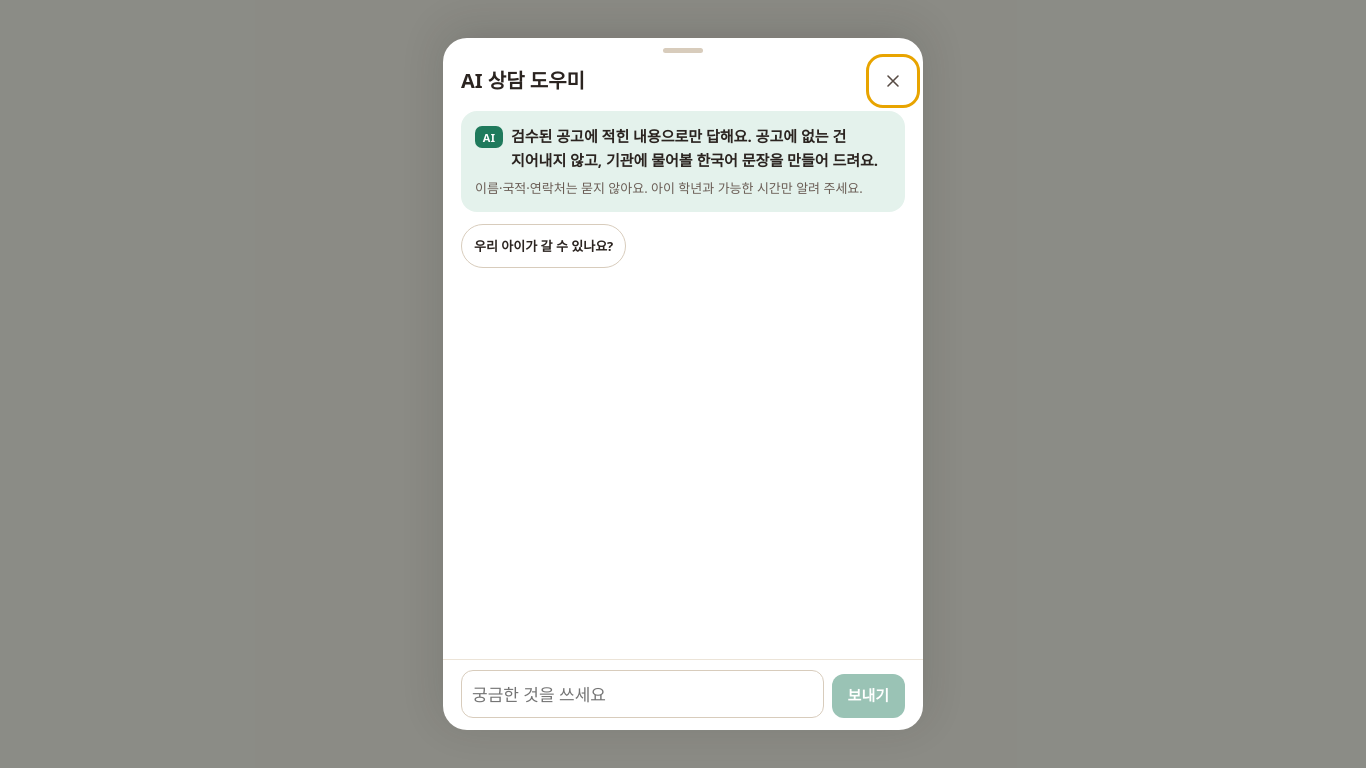
기관에 물을 문장의 문의처 › 시연용 공고의 온라인 문의는 실제 주소로 보내지 않는다
The image size is (1366, 768).
Type "형제도 갈 수 있어요?" into the text box labelled "궁금한 것을 쓰세요" at (642, 694), box top-left (461, 670), bottom-right (824, 718)
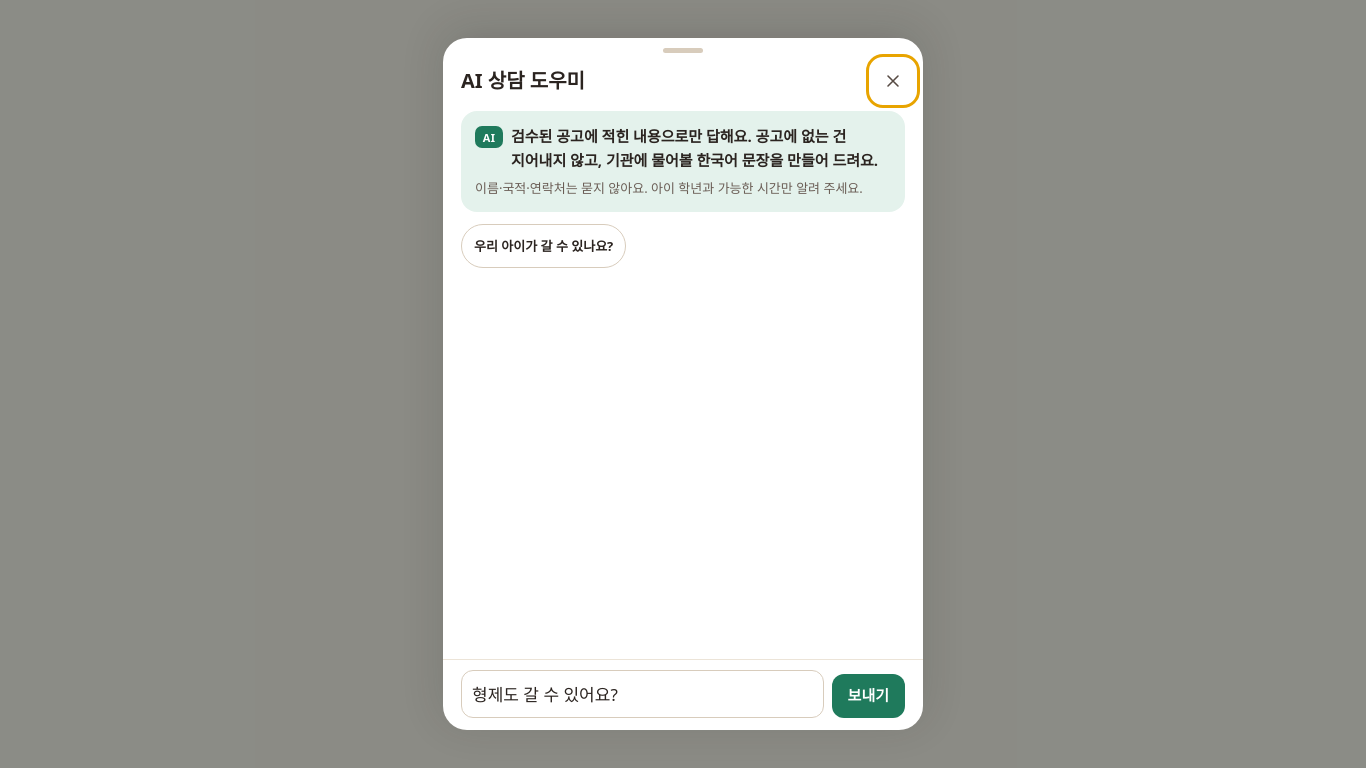
Press Enter in the text box named "궁금한 것을 쓰세요", box top-left (461, 670), bottom-right (824, 718)
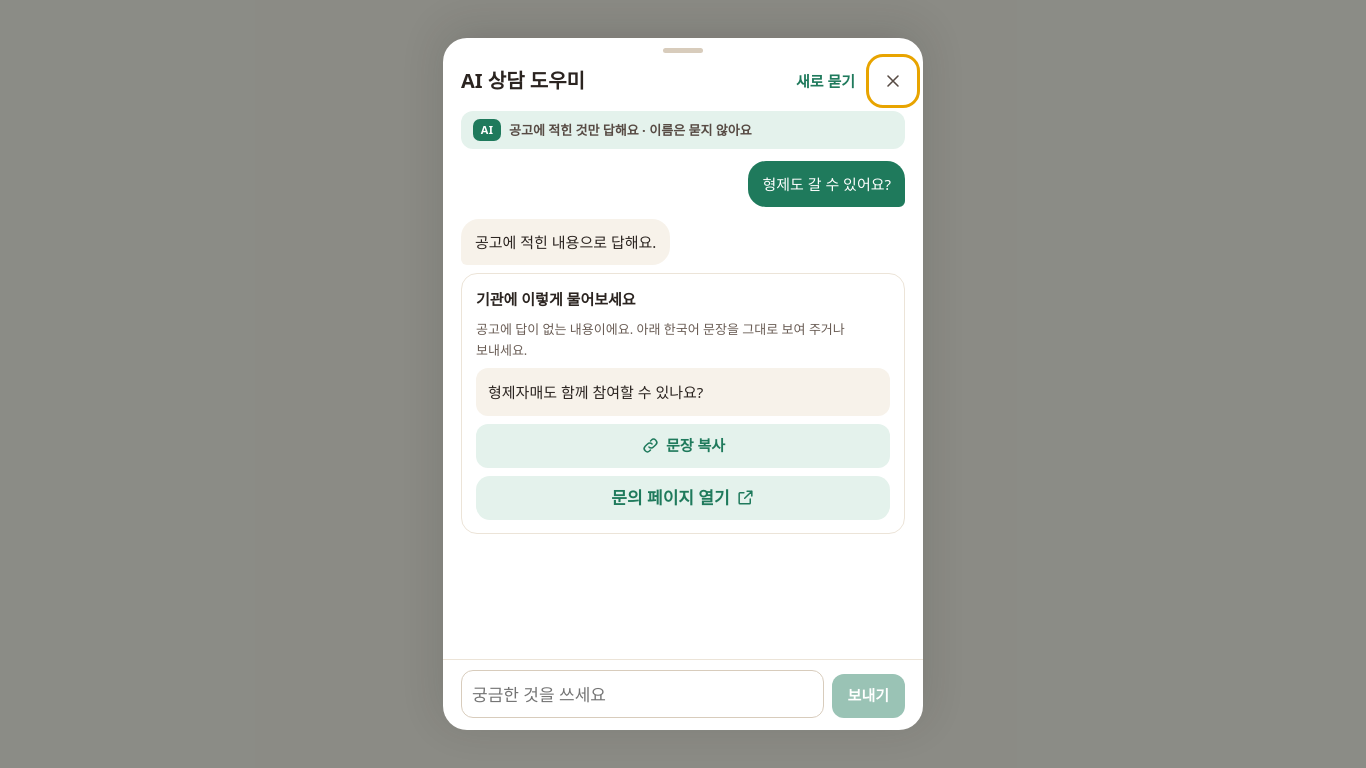
Click the button "문의 페이지 열기" at (683, 498), box top-left (476, 476), bottom-right (890, 520)
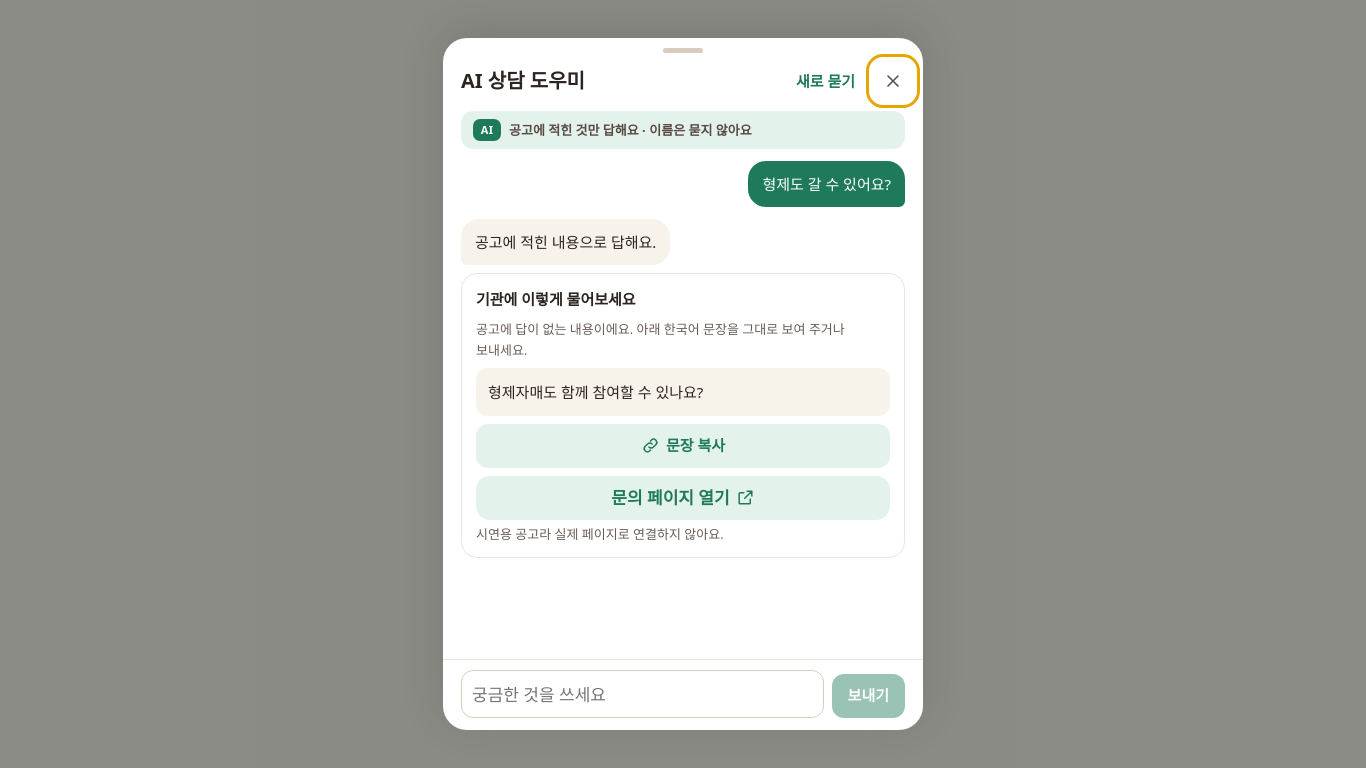
Expected: the text "시연용 공고라 실제 페이지로 연결하지 않아요." is shown, top-left (476, 525), bottom-right (724, 543)
